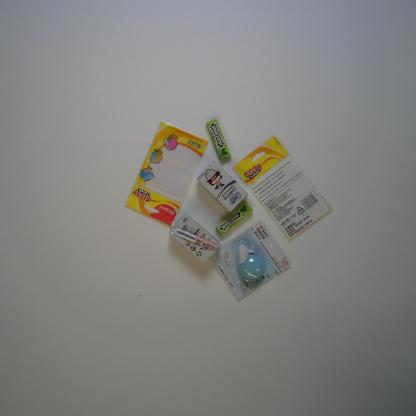Gum: (214, 200, 254, 237), (206, 118, 232, 160)
Milk: (168, 212, 222, 265), (196, 160, 249, 213)
Stationery: (232, 132, 333, 242), (124, 119, 210, 227), (209, 220, 291, 301)
